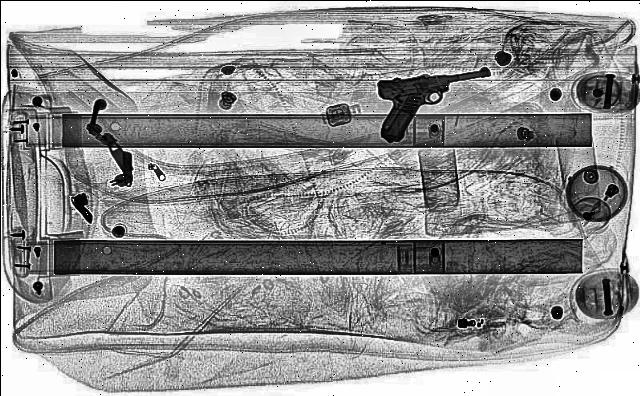Gun: (368, 70, 507, 144)
